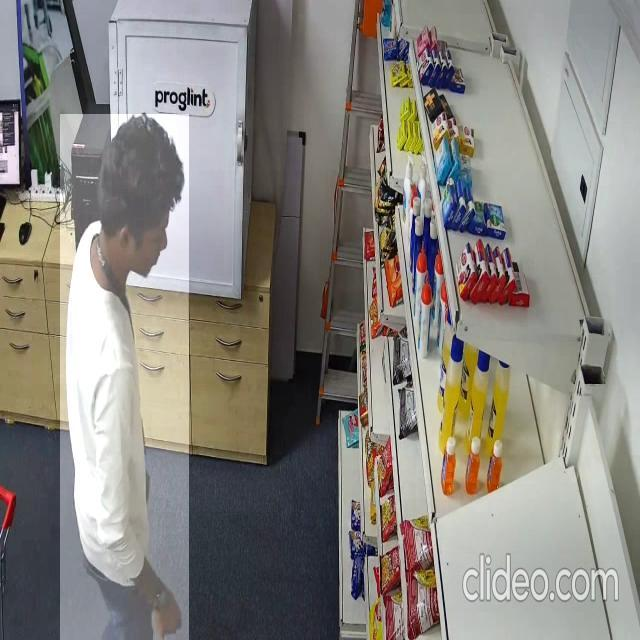normal: (60, 114, 189, 640)
